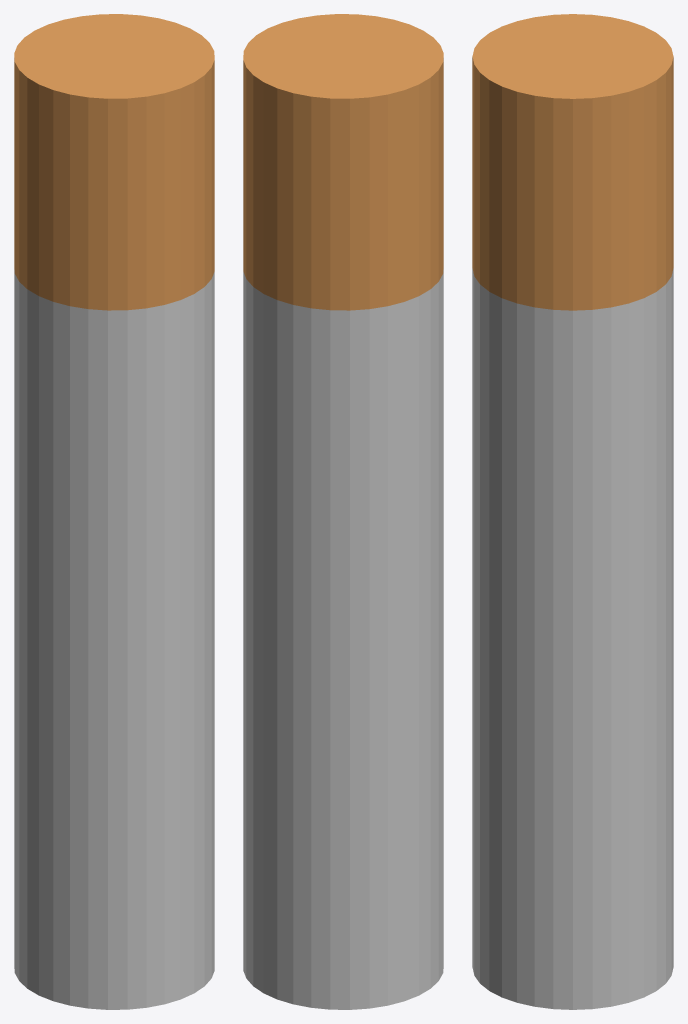
Rendered from cigarette_shorter2.glb.
3 renders of one model, left to right at view 1: azimuth 30°, elevation 25°; view 2: azimuth 150°, elevation 25°; view 3: azimuth 270°, elevation 25°, orthographic.
Parts seen in each view (by area): view 1: Cylinder; view 2: Cylinder; view 3: Cylinder.
Part boxes in pixels (left/top/right/bottom): Cylinder: left=14, top=14, right=214, bottom=1009; Cylinder: left=243, top=14, right=443, bottom=1009; Cylinder: left=472, top=14, right=673, bottom=1009.
Size of the model in its own units: 2 by 10 by 2.
